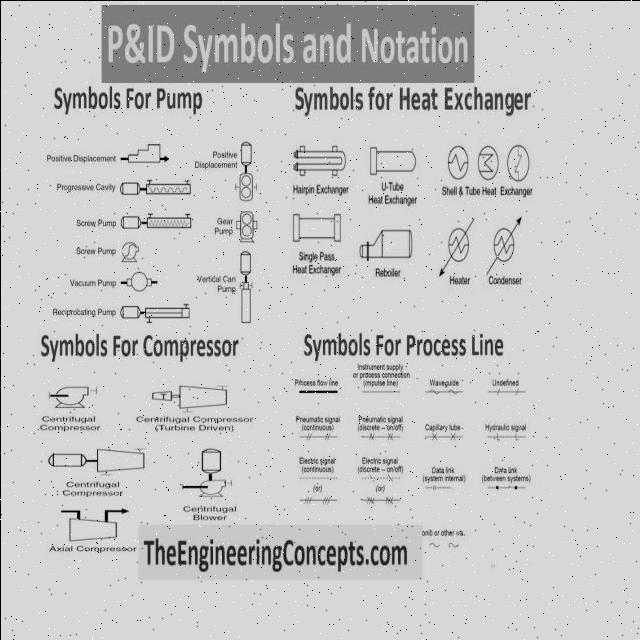Gear Pump: (233, 206, 257, 244)
